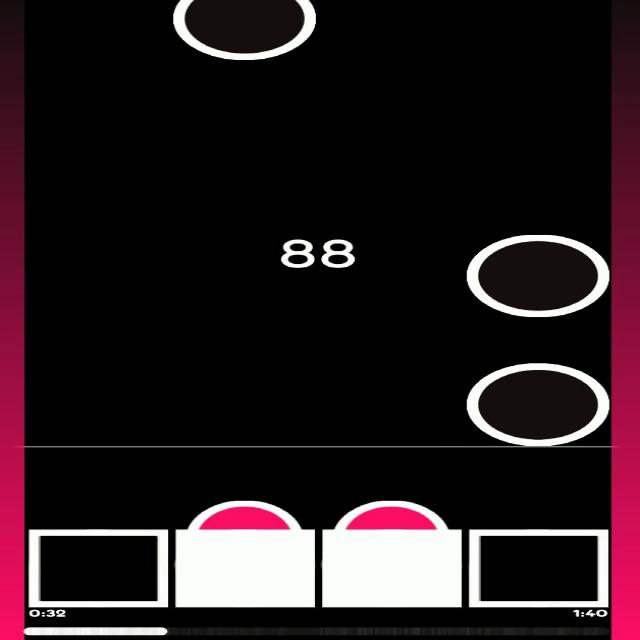end_hold: (186, 494, 302, 529), (337, 495, 448, 530)
note: (468, 362, 611, 447), (466, 234, 610, 316), (171, 0, 317, 61)
